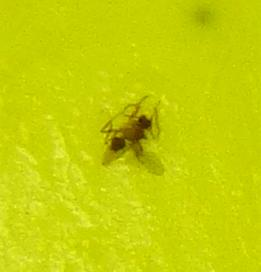Hymenoptera: (100, 100, 161, 172)
